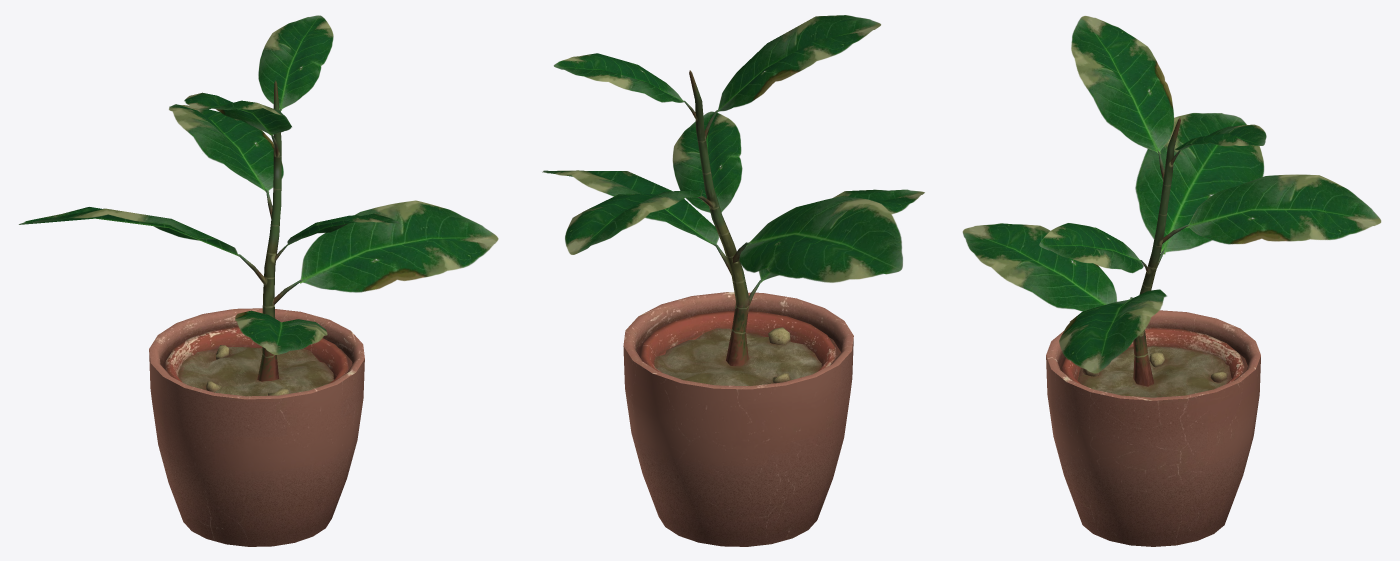
File: potted_ficus.glb
The picture shows the model from 3 angles, left to right: view 1: azimuth 30°, elevation 25°; view 2: azimuth 150°, elevation 25°; view 3: azimuth 270°, elevation 25°; orthographic projection. The views are drawn at different scales.
Parts seen in each view (by area): view 1: Ficus_w; view 2: Ficus_w; view 3: Ficus_w.
Boxes of the visible parts, <box> form: Ficus_w: <box>19,15,498,546</box>; Ficus_w: <box>542,15,924,546</box>; Ficus_w: <box>962,16,1381,546</box>.
Size of the model in its own units: 1.33 by 1.4 by 1.2.
Materials: 1 (1 with a texture image).
